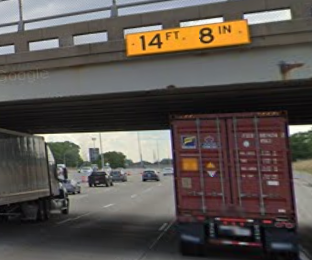1: (136, 33, 147, 53)
4: (145, 32, 165, 51)
8: (195, 25, 215, 47)
overheadsign: (124, 17, 250, 59)
